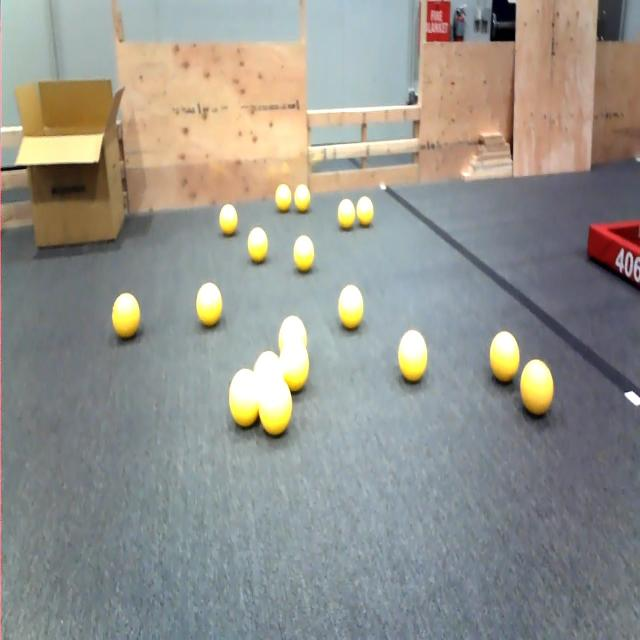fuel: (258, 376, 292, 436), (520, 360, 553, 415), (229, 368, 258, 428), (398, 329, 427, 382), (490, 331, 519, 383), (280, 341, 309, 392), (112, 293, 140, 339), (196, 283, 222, 327), (338, 285, 363, 329), (278, 316, 307, 351), (253, 351, 281, 384), (294, 236, 314, 272), (248, 227, 268, 263), (219, 204, 237, 236), (356, 196, 373, 226), (338, 199, 355, 229), (294, 184, 310, 212), (275, 184, 291, 212)
